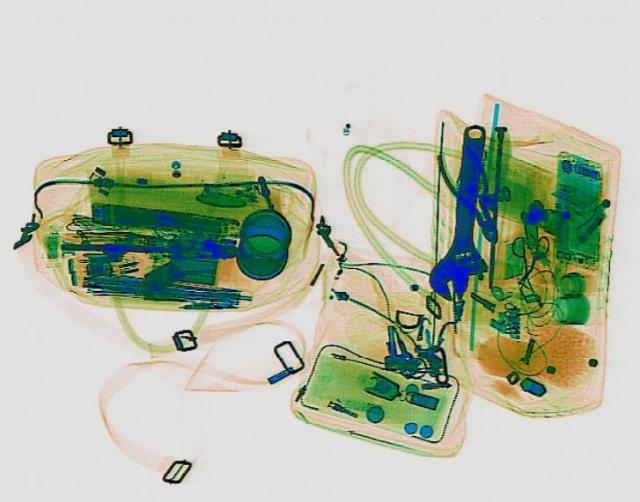Pliers: (430, 143, 514, 247)
Wrench: (425, 121, 503, 300)
